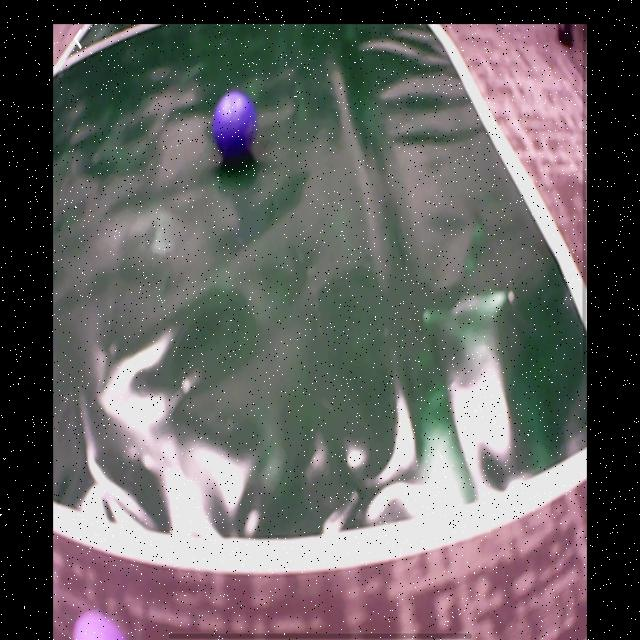ball: (213, 94, 258, 159), (73, 612, 127, 640)
